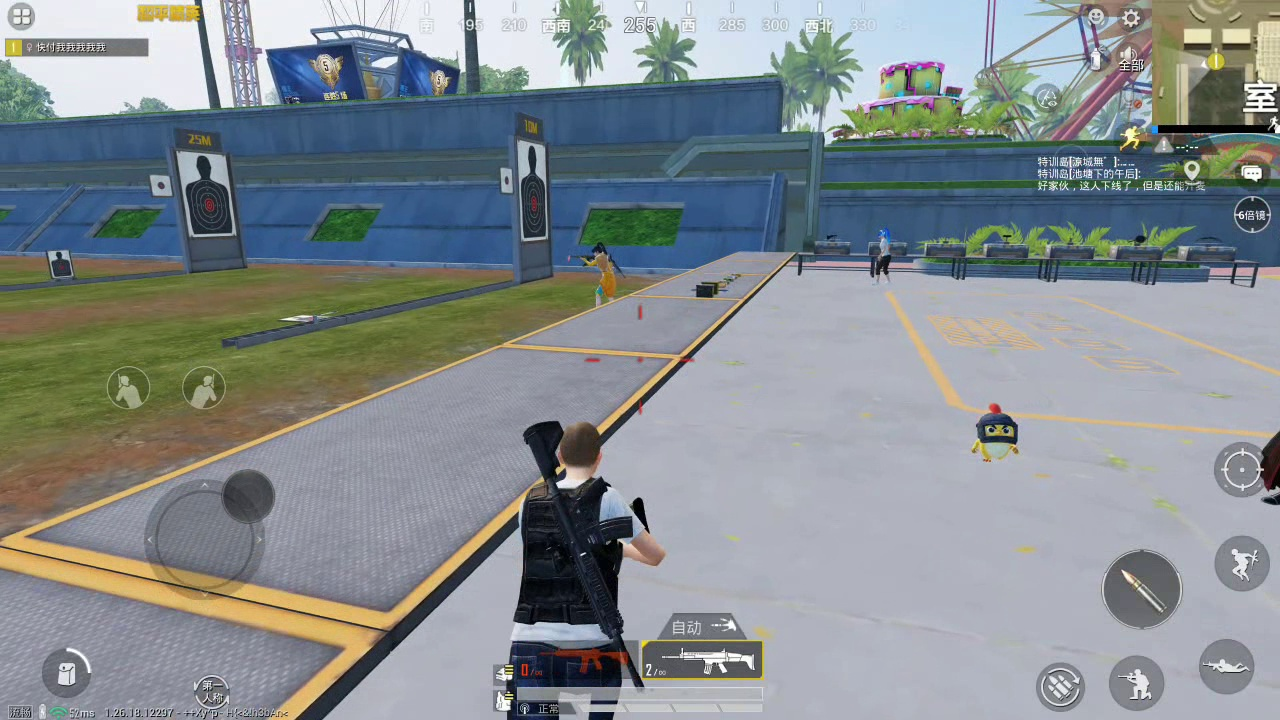enemy: (578, 244, 620, 307), (875, 223, 895, 282)
